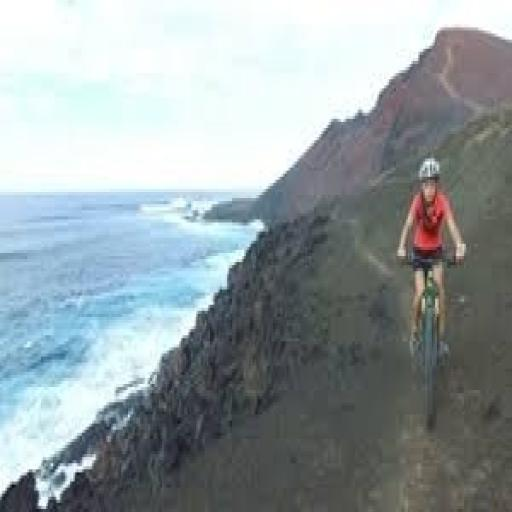cycling: (394, 152, 470, 369)
